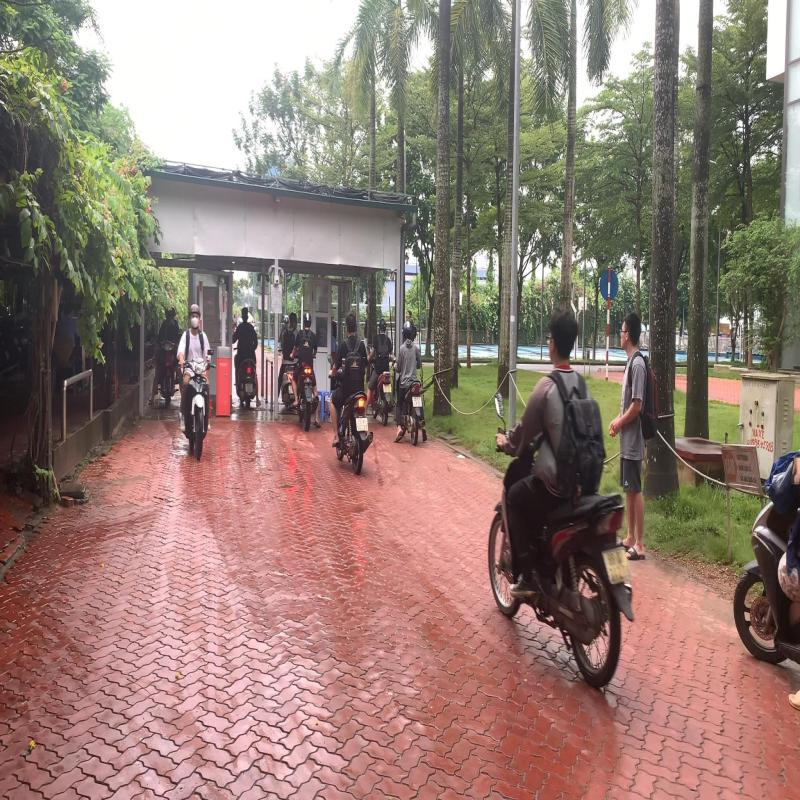nohelmet: (543, 303, 580, 366), (344, 311, 358, 338)
